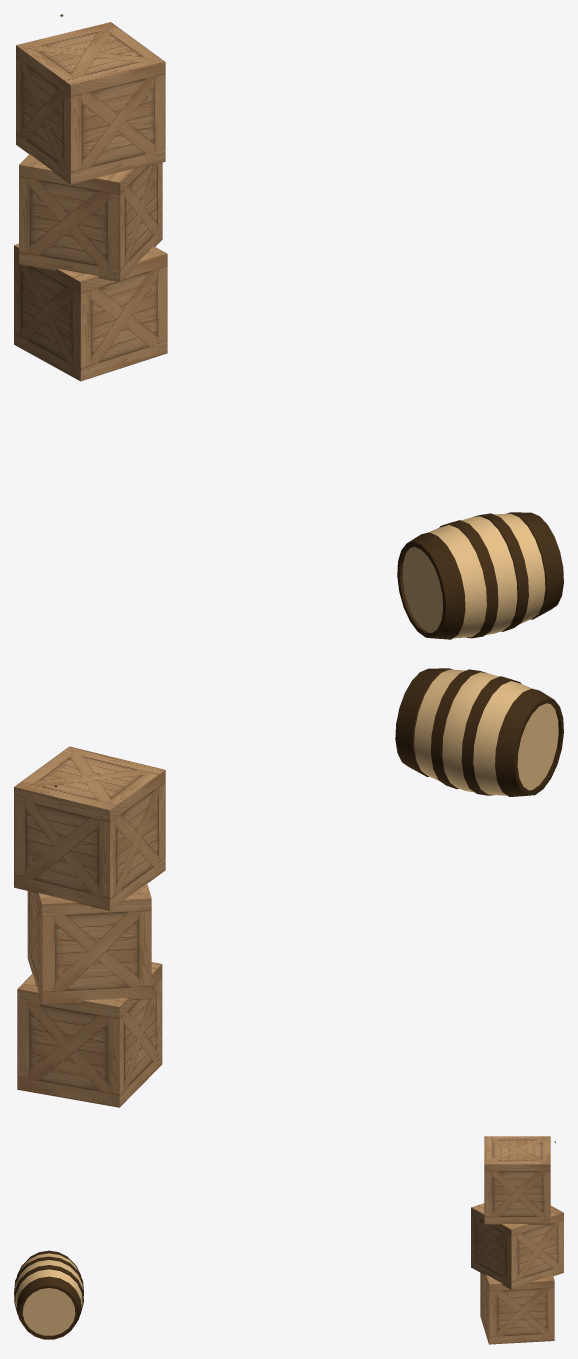
Rendered from Idle_barril_monkey.fbx.
The picture shows the model from 3 angles, top to bottom: view 1: azimuth 30°, elevation 25°; view 2: azimuth 150°, elevation 25°; view 3: azimuth 270°, elevation 25°; orthographic projection. The views are drawn at different scales.
Visible parts, largest first — view 1: box_wood:pCube1, barril_de_madera:pCylinder2, pCube22, pCube1; view 2: box_wood:pCube1, barril_de_madera:pCylinder2, pCube22, pCube1; view 3: box_wood:pCube1, pCube1, barril_de_madera:pCylinder2, pCube22.
Part boxes in pixels (x1=…): box_wood:pCube1: x1=16, y1=22, x2=165, y2=184; barril_de_madera:pCylinder2: x1=397, y1=512, x2=563, y2=639; pCube22: x1=14, y1=243, x2=167, y2=381; pCube1: x1=19, y1=154, x2=162, y2=281; box_wood:pCube1: x1=14, y1=746, x2=165, y2=910; barril_de_madera:pCylinder2: x1=395, y1=668, x2=563, y2=796; pCube22: x1=17, y1=962, x2=162, y2=1107; pCube1: x1=27, y1=883, x2=151, y2=1004; box_wood:pCube1: x1=484, y1=1136, x2=550, y2=1224; pCube1: x1=471, y1=1203, x2=563, y2=1289; barril_de_madera:pCylinder2: x1=14, y1=1250, x2=83, y2=1339; pCube22: x1=480, y1=1273, x2=554, y2=1344.
Size of the model in its own units: 130 by 291 by 772.
